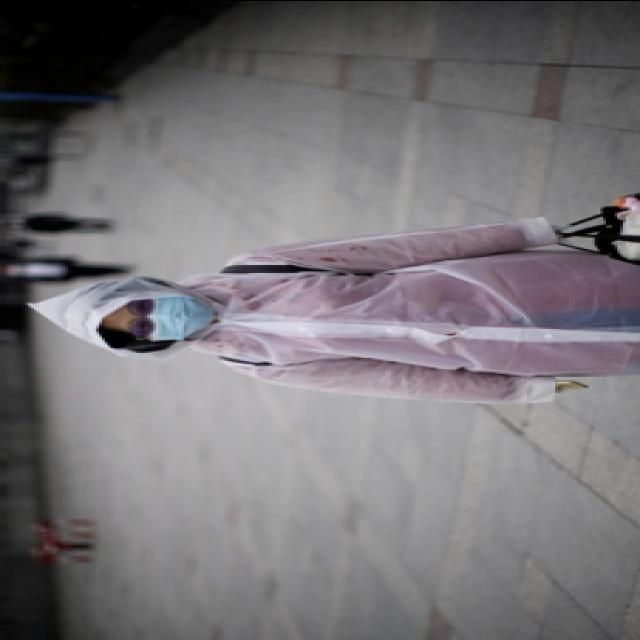with_mask: (113, 294, 215, 344)
